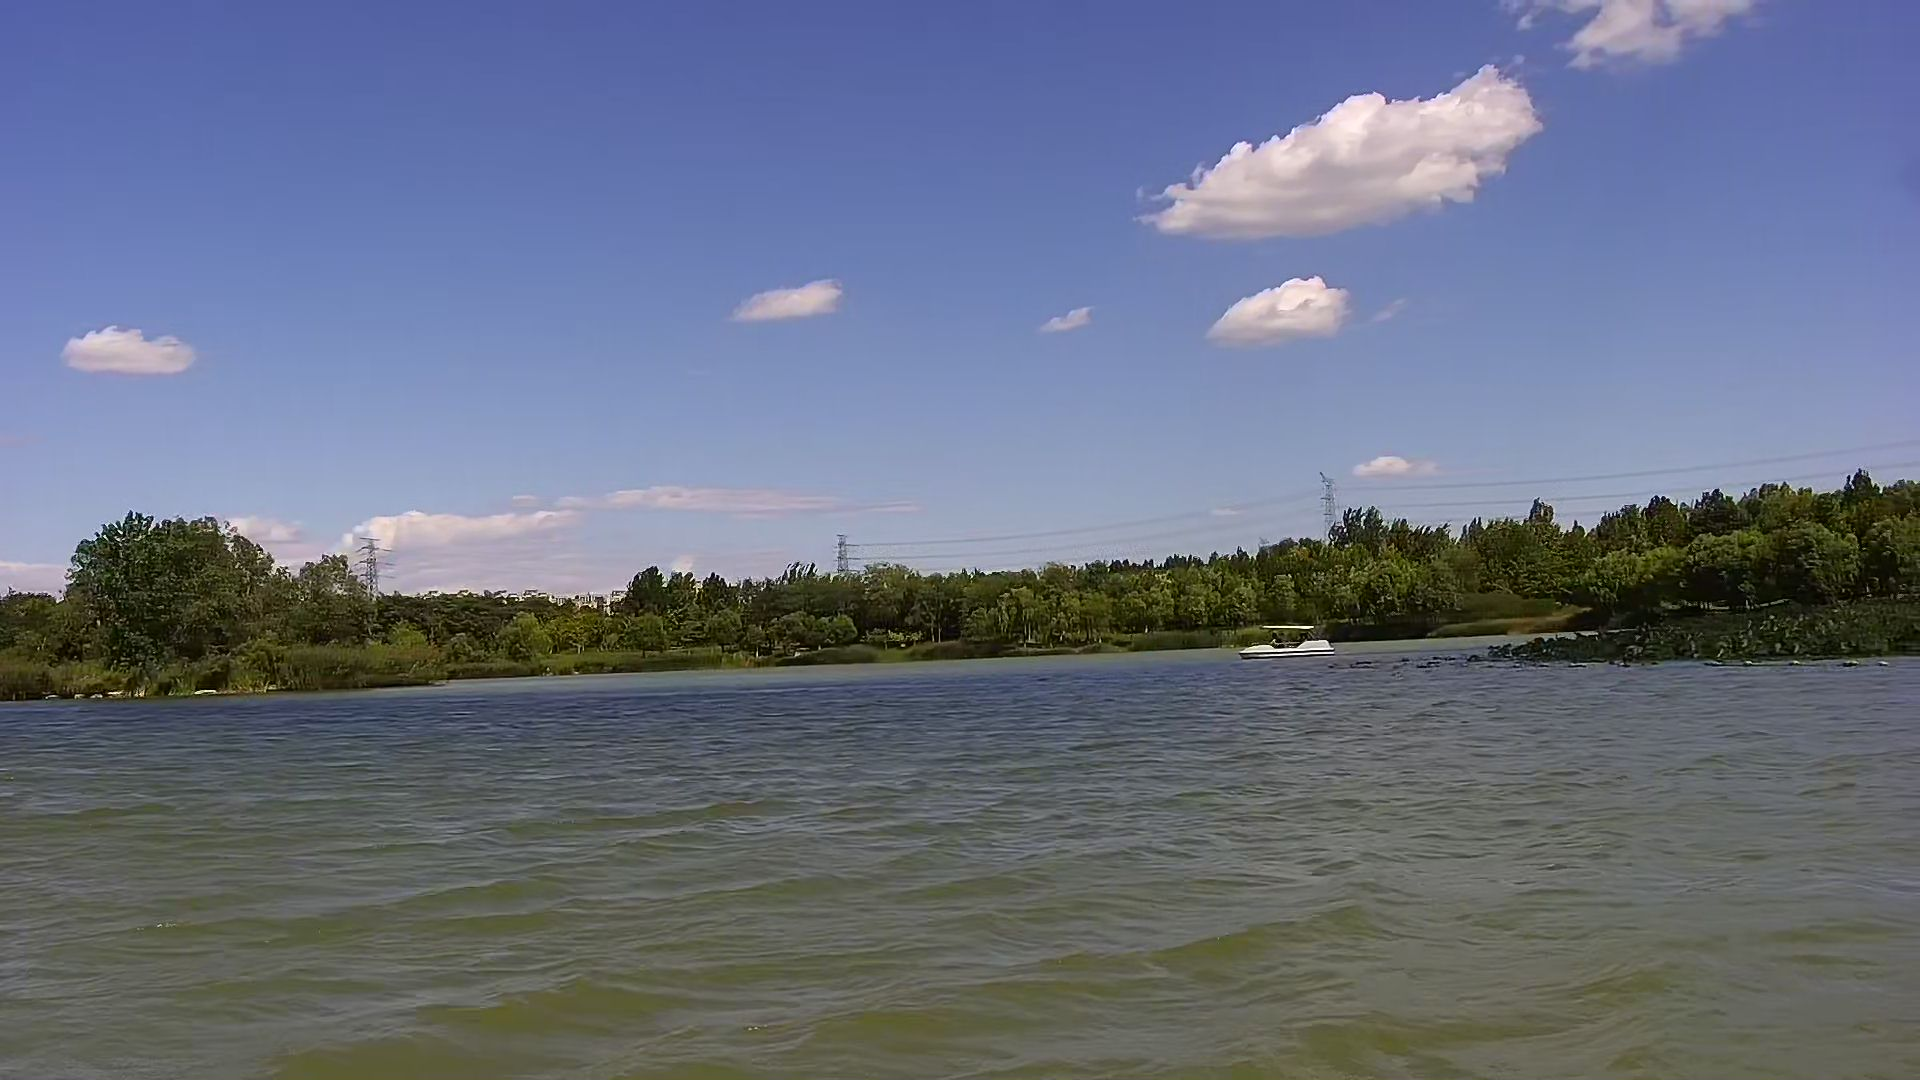boat: (1241, 618, 1342, 662)
grass: (1460, 603, 1917, 673)
